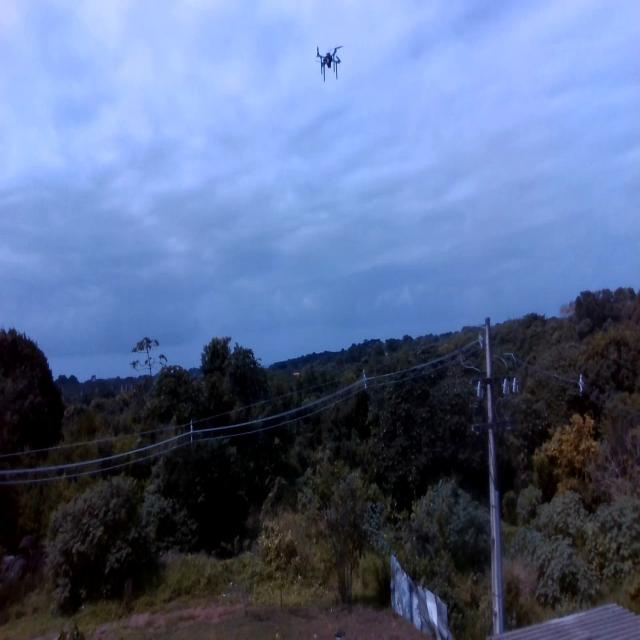-uav-: (306, 30, 348, 88)
